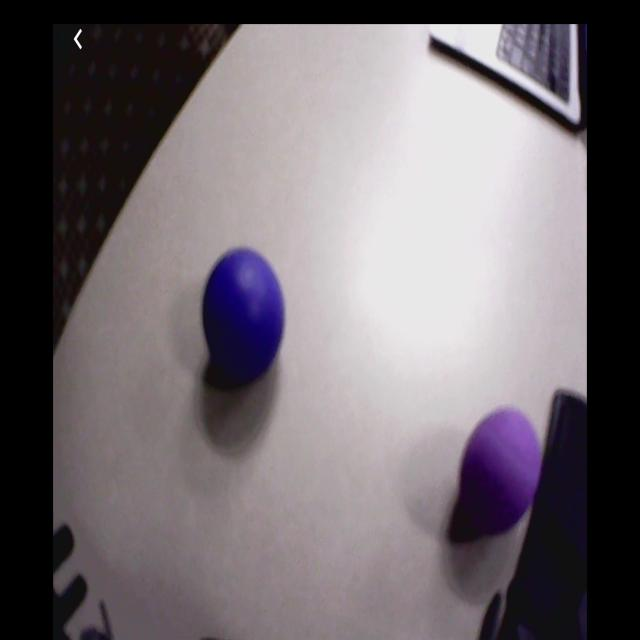ball: (203, 249, 286, 381), (460, 407, 544, 526)
